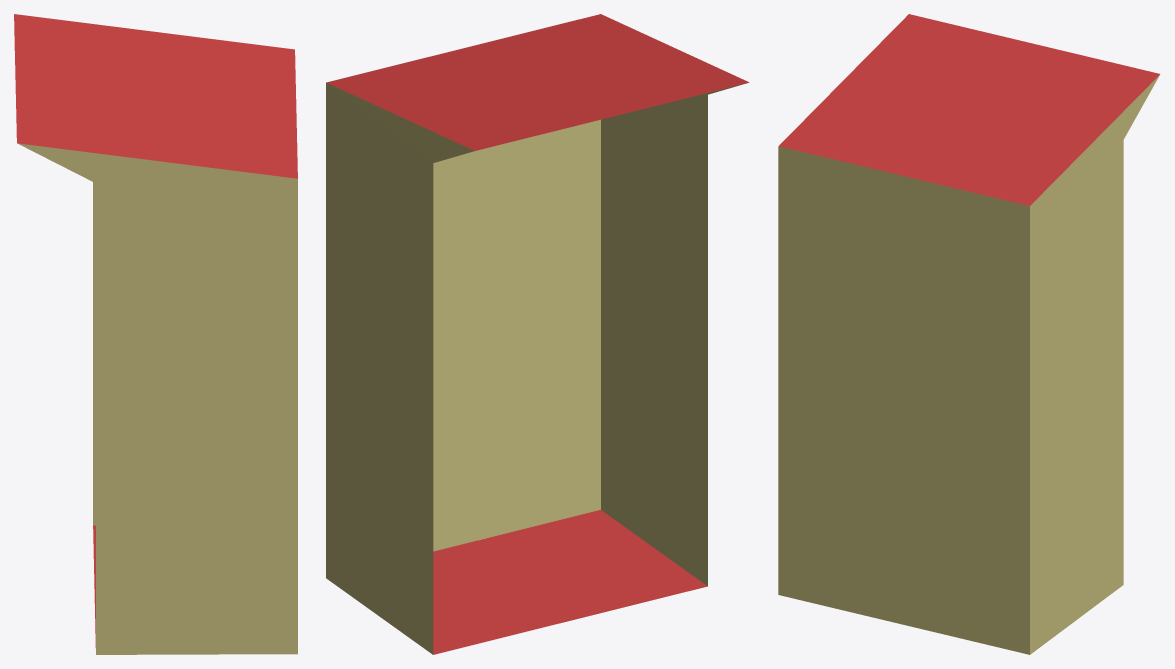
3 views of the same model, side by side, from view 1: azimuth 30°, elevation 25°; view 2: azimuth 150°, elevation 25°; view 3: azimuth 270°, elevation 25° (orthographic). The views are drawn at different scales.
Visible parts, largest first — view 1: group_4, group_3; view 2: group_4, group_3, group_5; view 3: group_4, group_3.
Boxes of the visible parts, bbox=[...] form: group_4: bbox=[17, 143, 297, 654]; group_3: bbox=[14, 14, 297, 178]; group_4: bbox=[326, 82, 746, 654]; group_3: bbox=[326, 14, 749, 150]; group_5: bbox=[433, 510, 707, 654]; group_4: bbox=[778, 75, 1159, 654]; group_3: bbox=[779, 14, 1159, 205].
Size of the model in its own units: 6.8 by 6.97 by 9.73.
